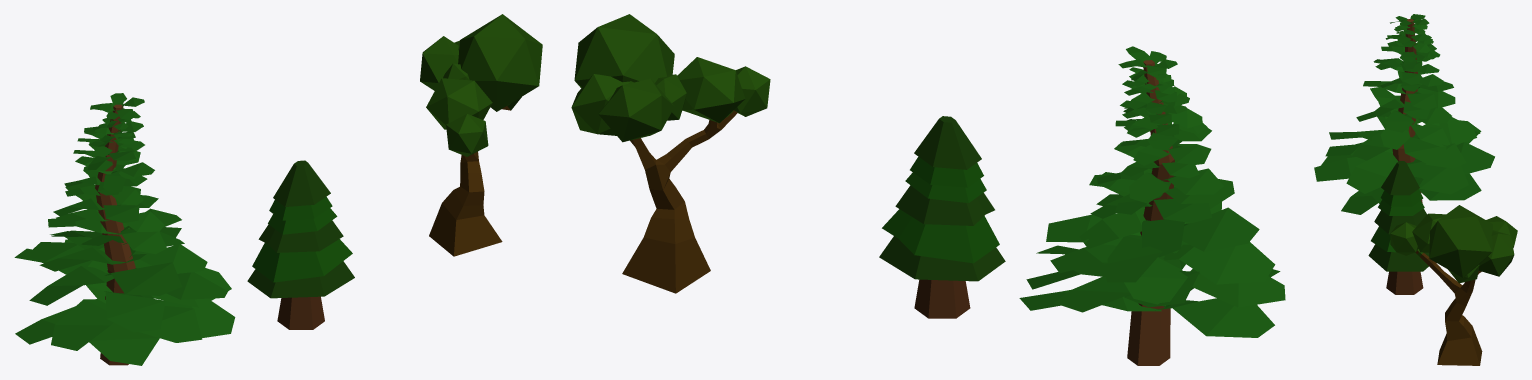
The model's file is tree 3,4,5.fbx.
3 views of the same model, side by side, from view 1: azimuth 30°, elevation 25°; view 2: azimuth 150°, elevation 25°; view 3: azimuth 270°, elevation 25° (orthographic). The views are drawn at different scales.
Parts seen in each view (by area): view 1: Icosphere.006, Cylinder, Cylinder.001, Plane.004, Plane.008, Plane.001, Plane.015, Plane.005, Plane.014, Plane.016, Plane.002, Plane.009 (+9 smaller); view 2: Icosphere.006, Cylinder, Cylinder.001, Plane.014, Plane, Plane.019, Plane.013, Plane.004, Plane.018, Plane.007, Plane.021, Plane.022 (+9 smaller); view 3: Icosphere.006, Cylinder, Plane.010, Plane.009, Plane.017, Plane.005, Plane.007, Plane.018, Cylinder.001, Plane.003, Plane.002, Plane.021 (+18 smaller).
Boxes of the visible parts, left/top/right/bottom form: Icosphere.006: left=420, top=14, right=542, bottom=256; Cylinder: left=247, top=160, right=354, bottom=329; Cylinder.001: left=95, top=104, right=135, bottom=365; Plane.004: left=51, top=299, right=113, bottom=350; Plane.008: left=104, top=291, right=165, bottom=332; Plane.001: left=89, top=322, right=159, bottom=365; Plane.015: left=105, top=262, right=182, bottom=295; Plane.005: left=139, top=306, right=202, bottom=342; Plane.014: left=29, top=266, right=113, bottom=305; Plane.016: left=119, top=244, right=207, bottom=273; Plane.002: left=164, top=301, right=235, bottom=338; Plane.009: left=166, top=272, right=227, bottom=299; Icosphere.006: left=571, top=14, right=770, bottom=293; Cylinder: left=879, top=116, right=1005, bottom=318; Cylinder.001: left=1127, top=60, right=1174, bottom=365; Plane.014: left=1163, top=242, right=1275, bottom=284; Plane: left=1155, top=298, right=1274, bottom=337; Plane.019: left=1182, top=207, right=1259, bottom=251; Plane.013: left=1124, top=256, right=1187, bottom=306; Plane.004: left=1192, top=274, right=1285, bottom=307; Plane.018: left=1103, top=235, right=1162, bottom=282; Plane.007: left=1054, top=276, right=1130, bottom=312; Plane.021: left=1079, top=207, right=1145, bottom=248; Plane.022: left=1142, top=219, right=1184, bottom=257; Icosphere.006: left=1390, top=205, right=1517, bottom=365; Cylinder: left=1368, top=160, right=1429, bottom=294; Plane.010: left=1407, top=159, right=1468, bottom=194; Plane.009: left=1346, top=151, right=1397, bottom=193; Plane.017: left=1403, top=137, right=1446, bottom=164; Plane.005: left=1314, top=157, right=1365, bottom=181; Plane.007: left=1457, top=142, right=1494, bottom=174; Plane.018: left=1412, top=117, right=1476, bottom=144; Cylinder.001: left=1392, top=19, right=1422, bottom=203; Plane.003: left=1419, top=173, right=1481, bottom=200; Plane.002: left=1341, top=190, right=1377, bottom=214; Plane.021: left=1411, top=124, right=1450, bottom=146.
Size of the model in its own units: 2676 by 1203 by 1096.
